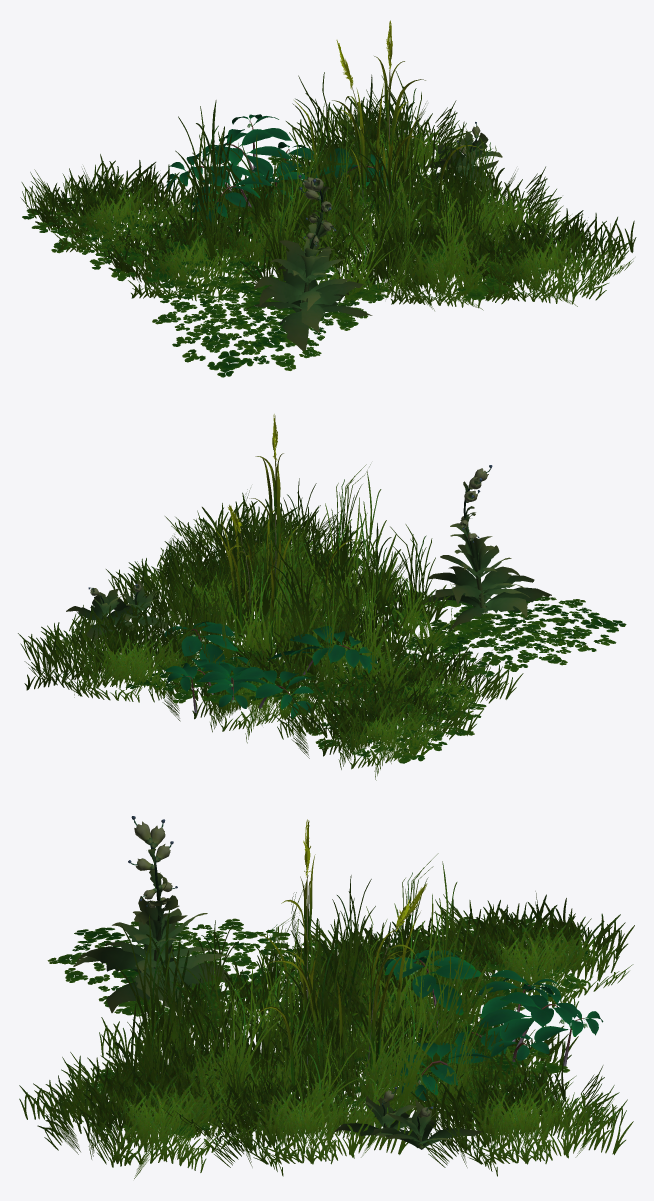
The picture shows the model from 3 angles, top to bottom: view 1: azimuth 30°, elevation 25°; view 2: azimuth 150°, elevation 25°; view 3: azimuth 270°, elevation 25°; orthographic projection. The views are drawn at different scales.
Parts seen in each view (by area): view 1: SM_BM_Weeds_03_LOD0; view 2: SM_BM_Weeds_03_LOD0; view 3: SM_BM_Weeds_03_LOD0.
Boxes of the visible parts, box(x1,y1,x2,y2) form: SM_BM_Weeds_03_LOD0: box(20, 20, 636, 377); SM_BM_Weeds_03_LOD0: box(18, 414, 626, 780); SM_BM_Weeds_03_LOD0: box(19, 816, 634, 1178).
Bounding box in the file's own units: 2.84 × 1.48 × 2.77.
Materials: 5 (5 with a texture image).
